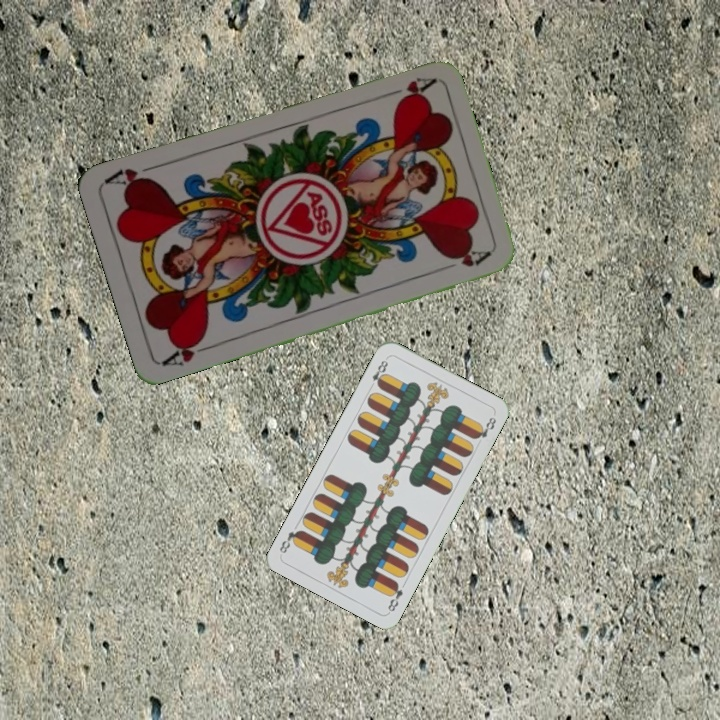E8: (366, 354, 391, 391), (383, 578, 406, 614)
HA: (158, 333, 216, 369), (378, 73, 437, 105)
